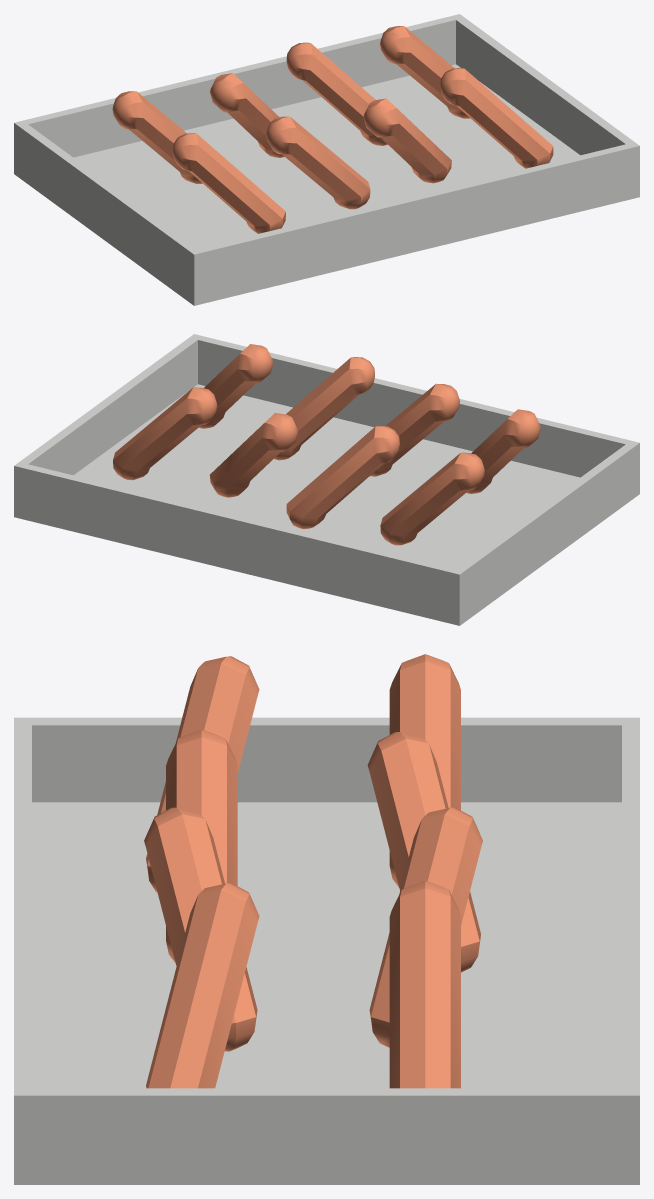
Rendered from Shrimp.fbx.
3 views of the same model, one above another, from view 1: azimuth 30°, elevation 25°; view 2: azimuth 150°, elevation 25°; view 3: azimuth 270°, elevation 25° (orthographic). The views are drawn at different scales.
Visible parts, largest first — view 1: Shrimp; view 2: Shrimp; view 3: Shrimp.
Part boxes in pixels (x1=…): Shrimp: x1=14, y1=14, x2=639, y2=305; Shrimp: x1=14, y1=334, x2=639, y2=625; Shrimp: x1=14, y1=654, x2=639, y2=1184.
Bounding box in the file's own units: 0.2 × 0.0486 × 0.14.
